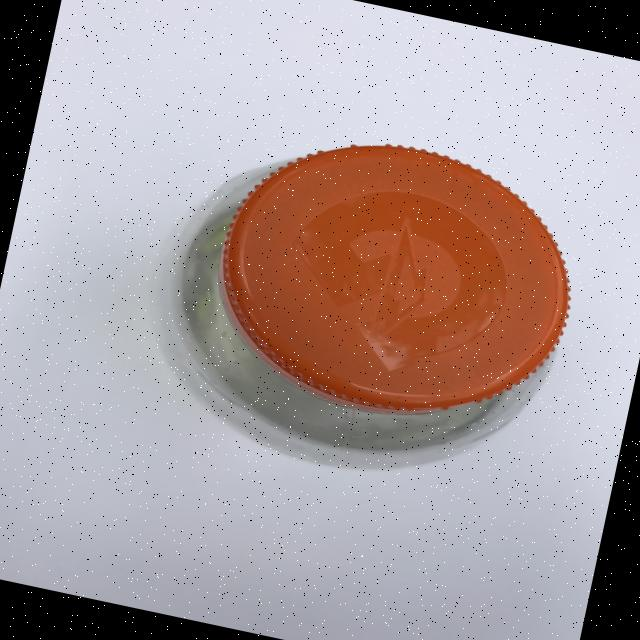plastic: (134, 100, 597, 507)
